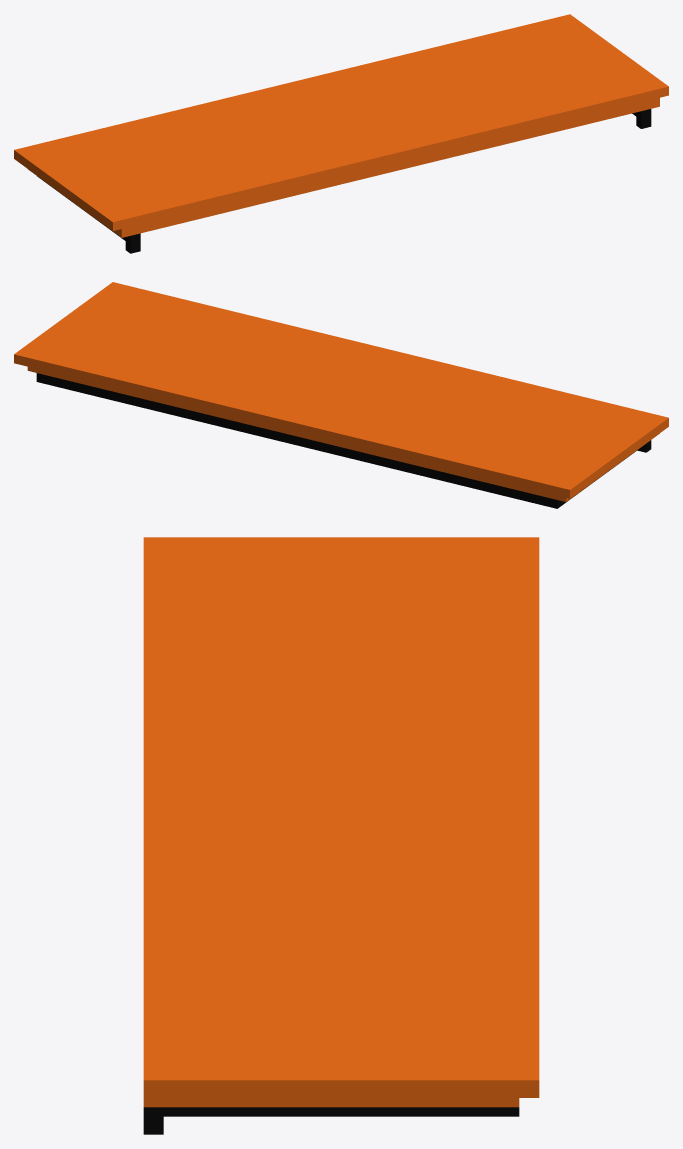
The model's file is Floating Shelve.fbx.
3 views of the same model, one above another, from view 1: azimuth 30°, elevation 25°; view 2: azimuth 150°, elevation 25°; view 3: azimuth 270°, elevation 25° (orthographic). The views are drawn at different scales.
Visible parts, largest first — view 1: Floating Shelve; view 2: Floating Shelve; view 3: Floating Shelve.
Boxes of the visible parts, box(x1,y1,x2,y2) form: Floating Shelve: box(14, 14, 668, 253); Floating Shelve: box(14, 282, 668, 508); Floating Shelve: box(143, 537, 539, 1134).
Size of the model in its own units: 0.8005 by 0.0493 by 0.2464.
